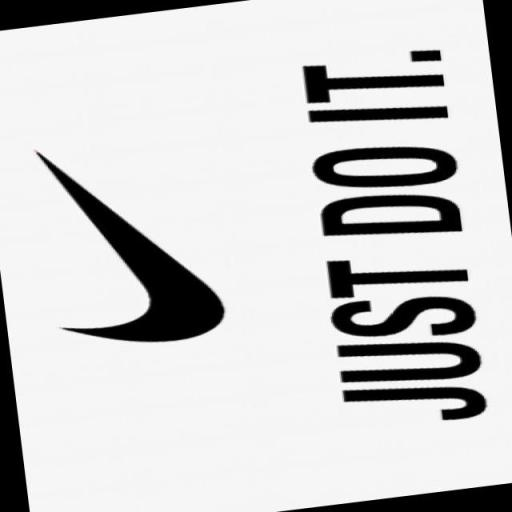Nike: (6, 120, 228, 370)
